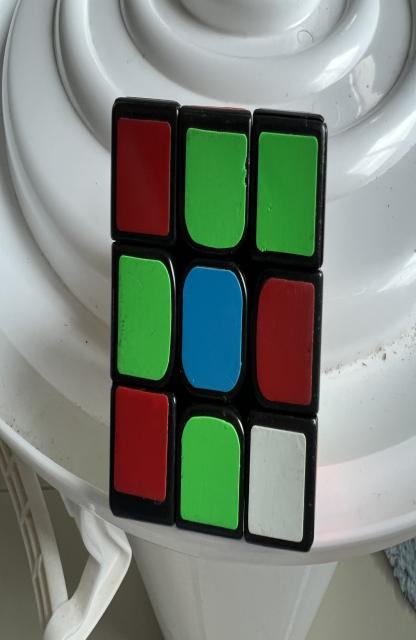Blue: (182, 267, 243, 392)
Green: (256, 132, 318, 257), (184, 128, 247, 248), (180, 417, 240, 530), (117, 255, 171, 380)
Red: (256, 278, 314, 405), (116, 118, 171, 237), (114, 387, 169, 502)
White: (248, 425, 306, 542)
